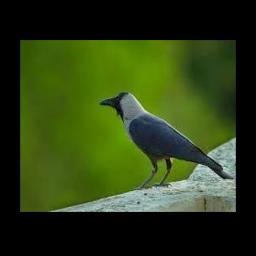Crow: (99, 92, 232, 188)
